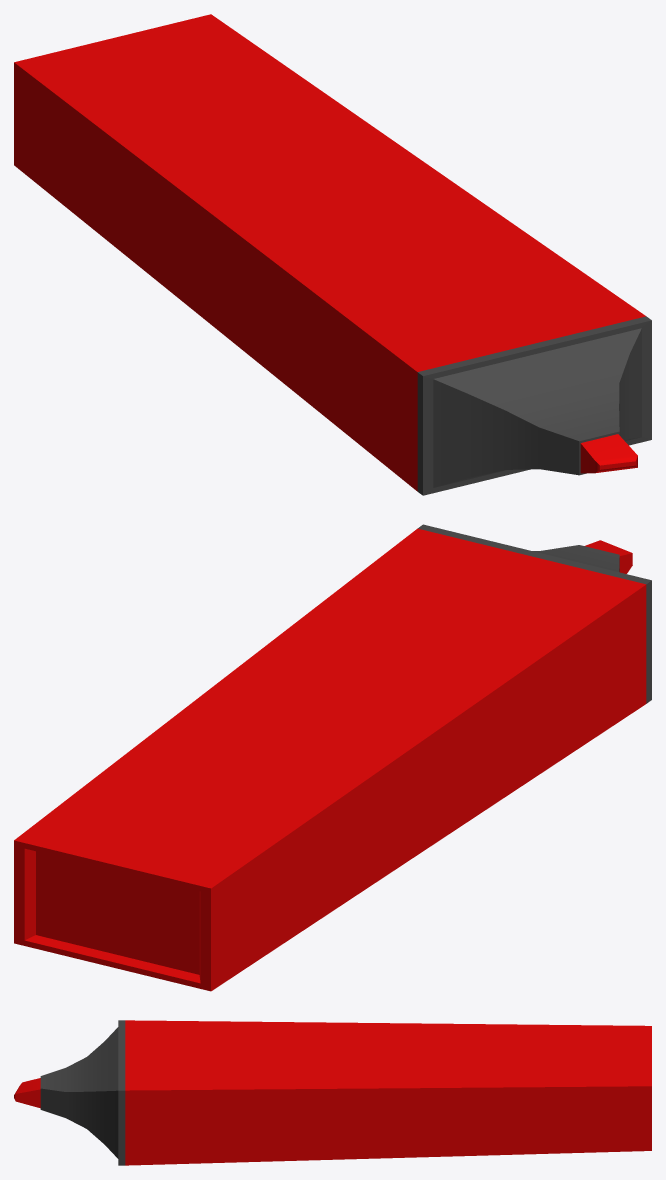
The model's file is SM_Marker.fbx.
3 views of the same model, one above another, from view 1: azimuth 30°, elevation 25°; view 2: azimuth 150°, elevation 25°; view 3: azimuth 270°, elevation 25° (orthographic). The views are drawn at different scales.
Visible parts, largest first — view 1: Marker; view 2: Marker; view 3: Marker.
Part boxes in pixels (bbox=[...]): Marker: bbox=[14, 14, 651, 495]; Marker: bbox=[14, 524, 651, 991]; Marker: bbox=[14, 1020, 651, 1165].
Bounding box in the file's own units: 14.71 × 7.34 × 56.57.
